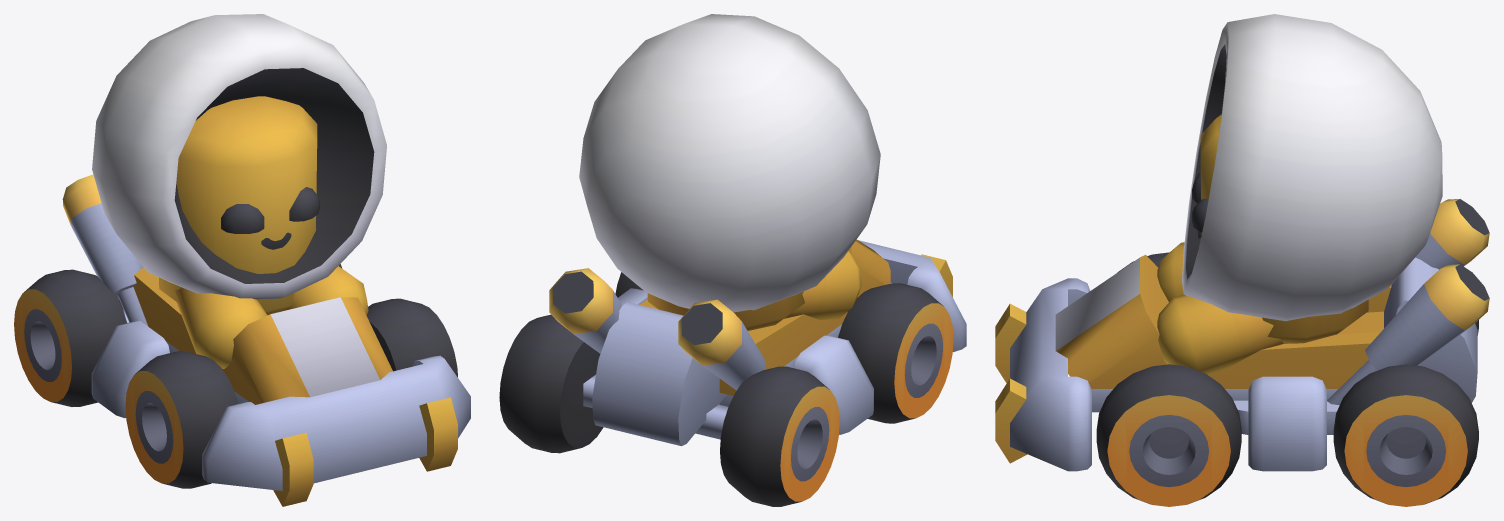
Rendered from kart-ooli.glb.
3 views of the same model, side by side, from view 1: azimuth 30°, elevation 25°; view 2: azimuth 150°, elevation 25°; view 3: azimuth 270°, elevation 25° (orthographic). The views are drawn at different scales.
Visible parts, largest first — view 1: character, kart-ooli, wheel-back-right, wheel-front-right, wheel-front-left; view 2: character, kart-ooli, wheel-back-right, wheel-front-right, wheel-back-left; view 3: character, kart-ooli, wheel-front-left, wheel-back-left.
Boxes of the visible parts, x1=… form: character: x1=92, y1=14, x2=386, y2=368; kart-ooli: x1=62, y1=174, x2=470, y2=506; wheel-back-right: x1=14, y1=269, x2=126, y2=406; wheel-front-right: x1=125, y1=351, x2=238, y2=488; wheel-front-left: x1=366, y1=298, x2=457, y2=377; character: x1=579, y1=14, x2=880, y2=330; kart-ooli: x1=549, y1=239, x2=966, y2=446; wheel-back-right: x1=720, y1=366, x2=839, y2=506; wheel-front-right: x1=838, y1=283, x2=953, y2=423; wheel-back-left: x1=499, y1=314, x2=603, y2=453; character: x1=1157, y1=14, x2=1442, y2=375; kart-ooli: x1=995, y1=199, x2=1489, y2=471; wheel-front-left: x1=1096, y1=364, x2=1241, y2=506; wheel-back-left: x1=1333, y1=364, x2=1478, y2=506.
Size of the model in its own units: 0.9743 by 1.33 by 1.43.
Materials: 1 (1 with a texture image).
